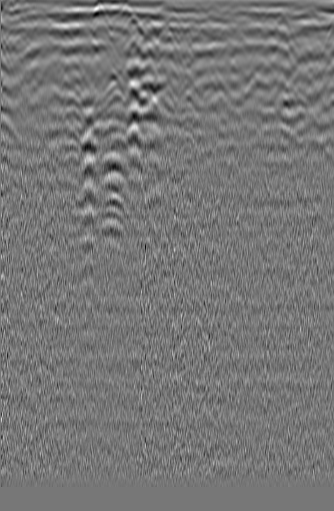가스: (91, 193, 128, 226)
상수: (7, 31, 37, 56)
오수: (294, 39, 331, 65)
우수: (153, 21, 181, 52)
